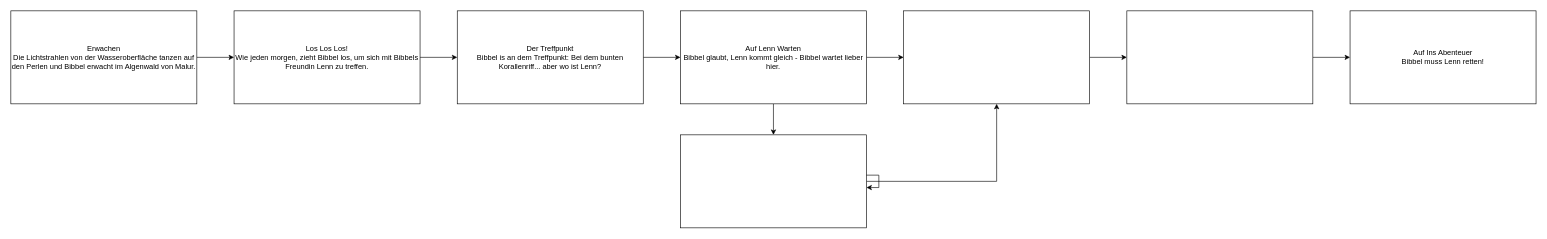
This 1547x239 diagram has some shape labels left out. Each missing label, with the centre of its shape:
Nach Lenn Suchen Bibbel weiß, Lenn kommt immer - Bibbel sollte nach ihr suchen.: the point at 996,57
Seelenverbindung Bibbel spürt in der Seelenverbindung, dass Lenn in Gefahr ist.: the point at 1219,57
Weiter Warten Bibbel ist sich sicher, sie muss gleich kommen!: the point at 773,181
